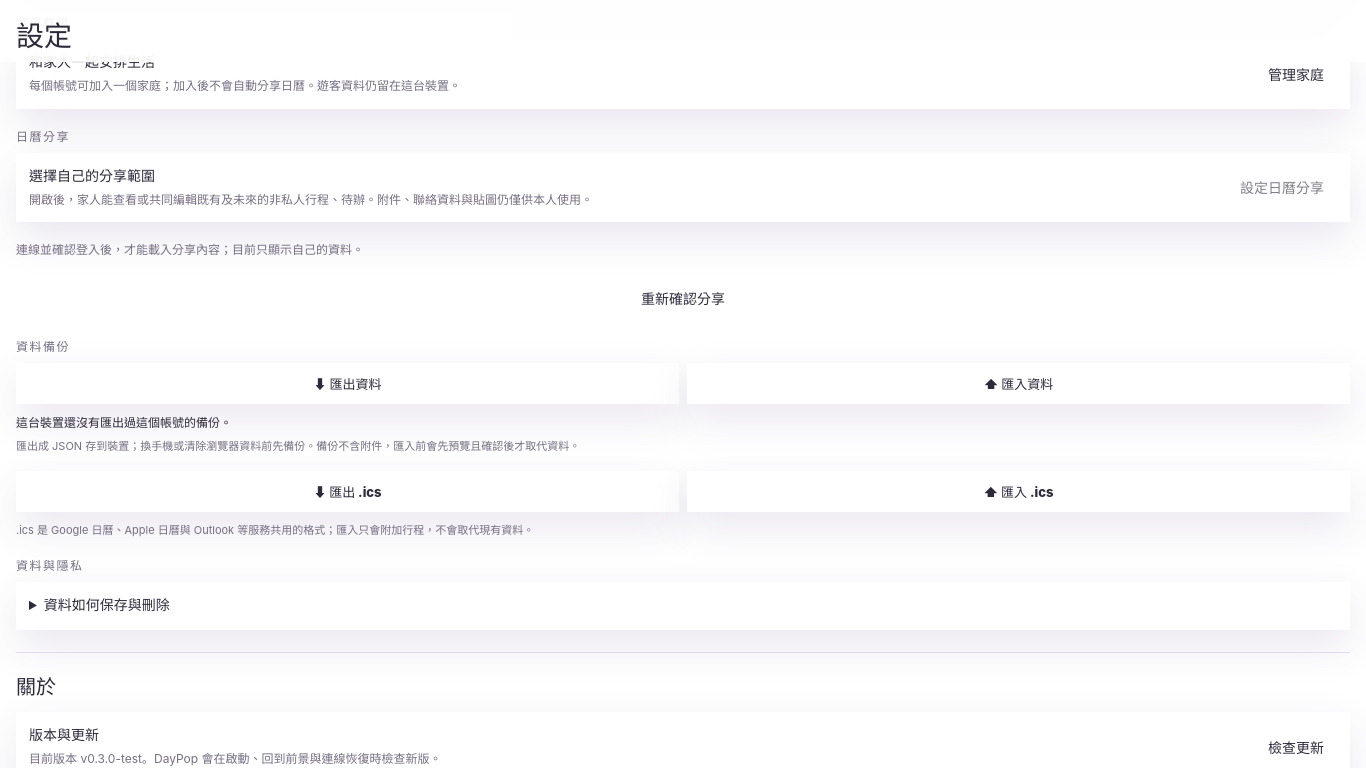
Test: 設定 上次匯出 › keeps a signed-in account apart from the guest record
(page scrolled)
Click the button "⬇ 匯出資料". click: (348, 384)
box: [16,363,679,404]
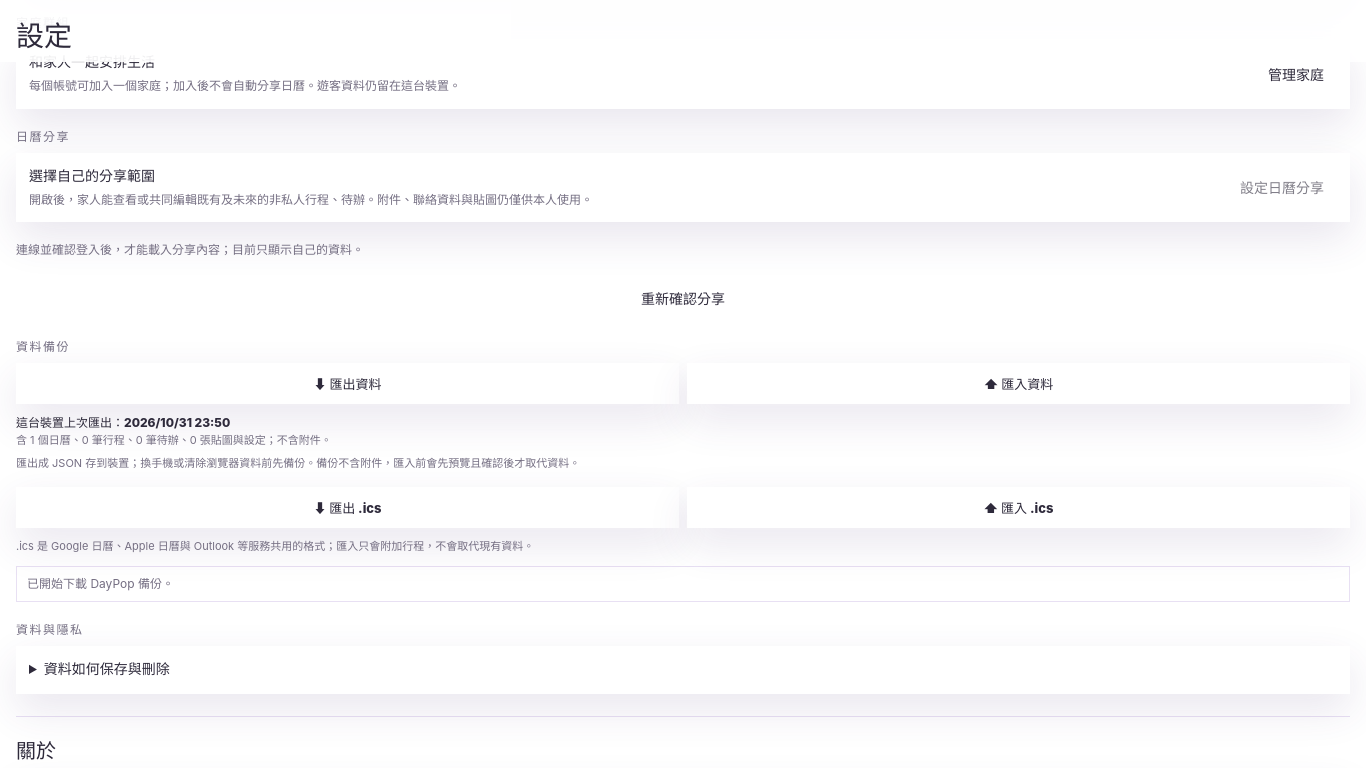
Expected: the element with class "data-backup-last" shows "這台裝置上次匯出：", [16,415,124,430]
